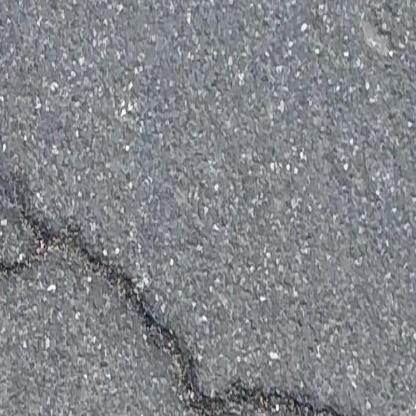Cracks: (0, 208, 372, 416)
